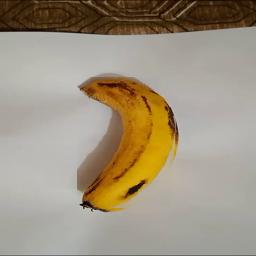Banana Semifresh: (77, 78, 179, 211)
